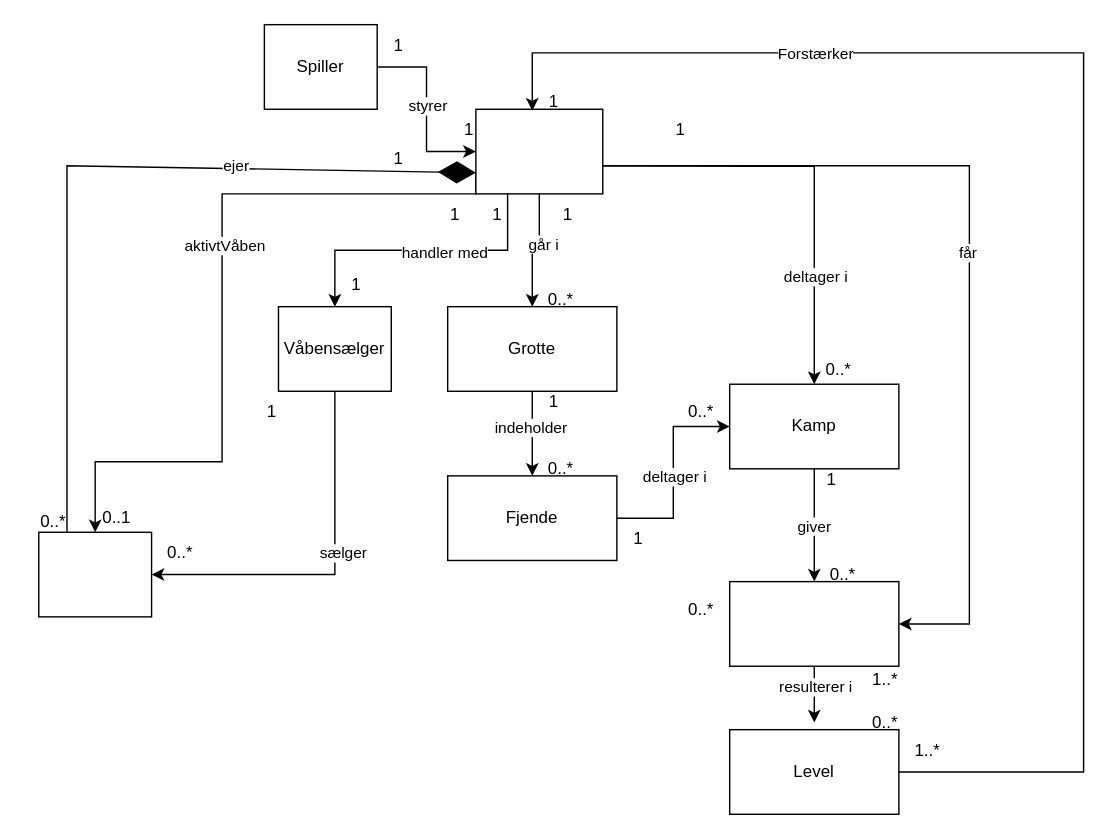
Some shapes in this 1120 by 839 pixel diagram are drawn without their labels. The centre of each missing label's shape, as x and y in pixels:
Helt: point 538,151
Våben: point 94,574
XP: point 813,623
